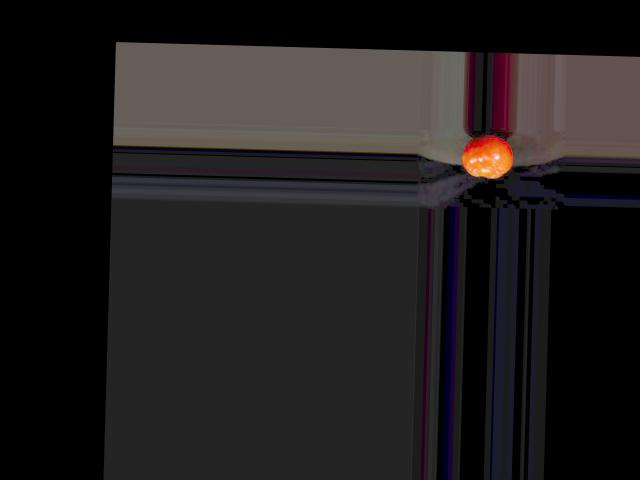tomato: (461, 133, 515, 179)
